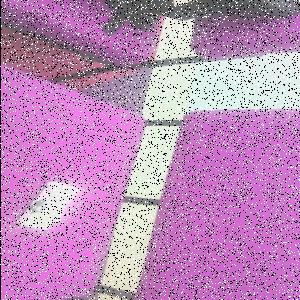Cup: (17, 183, 81, 232)
